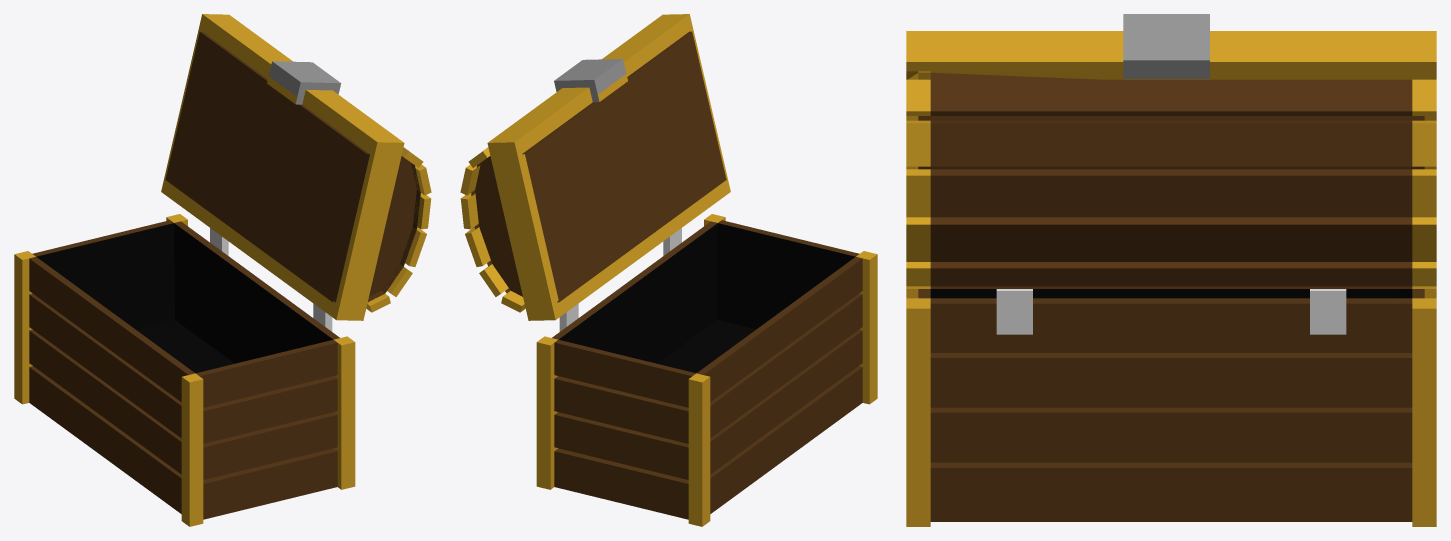
File: Chest.fbx
3 renders of one model, left to right at view 1: azimuth 30°, elevation 25°; view 2: azimuth 150°, elevation 25°; view 3: azimuth 270°, elevation 25°, orthographic. The views are drawn at different scales.
Parts seen in each view (by area): view 1: Chest_Base, Chest_Lid; view 2: Chest_Base, Chest_Lid; view 3: Chest_Lid, Chest_Base, Hinge, Hinge.001.
Part boxes in pixels (x1,y1,x2,y2): Chest_Base: (14,214,355,526); Chest_Lid: (161,14,431,320); Chest_Base: (536,214,877,526); Chest_Lid: (460,14,730,320); Chest_Lid: (906,14,1436,288); Chest_Base: (906,289,1436,526); Hinge: (996,289,1032,334); Hinge.001: (1310,289,1346,334).
Bounding box in the file's own units: 351 × 481 × 440.
